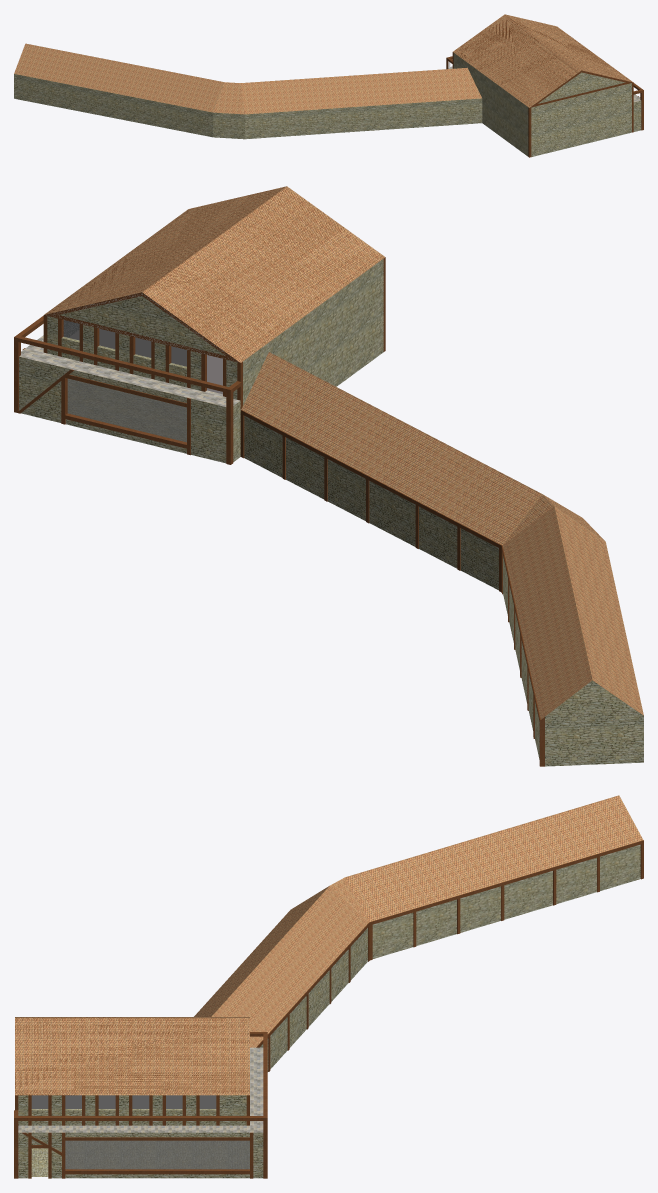
The picture shows the model from 3 angles, top to bottom: view 1: azimuth 30°, elevation 25°; view 2: azimuth 150°, elevation 25°; view 3: azimuth 270°, elevation 25°; orthographic projection. The views are drawn at different scales.
Visible parts, largest first — view 1: SketchUp (×4), a5b (×2), a5b_1 (×2); view 2: SketchUp (×9), a5b (×8), a5b_1 (×3); view 3: SketchUp (×11), a5b_1 (×8), a5b (×7).
Part boxes in pixels (bbox=[...]): SketchUp (×4): bbox=[446, 14, 643, 157]; a5b (×2): bbox=[240, 67, 482, 139]; a5b_1 (×2): bbox=[14, 43, 244, 139]; SketchUp (×9): bbox=[14, 186, 385, 464]; a5b (×8): bbox=[240, 352, 542, 592]; a5b_1 (×3): bbox=[501, 494, 643, 766]; SketchUp (×11): bbox=[14, 1017, 267, 1178]; a5b_1 (×8): bbox=[330, 795, 643, 960]; a5b (×7): bbox=[194, 885, 369, 1071].
Size of the model in its own units: 1827 by 1477 by 295.
Materials: 8 (4 with a texture image).
